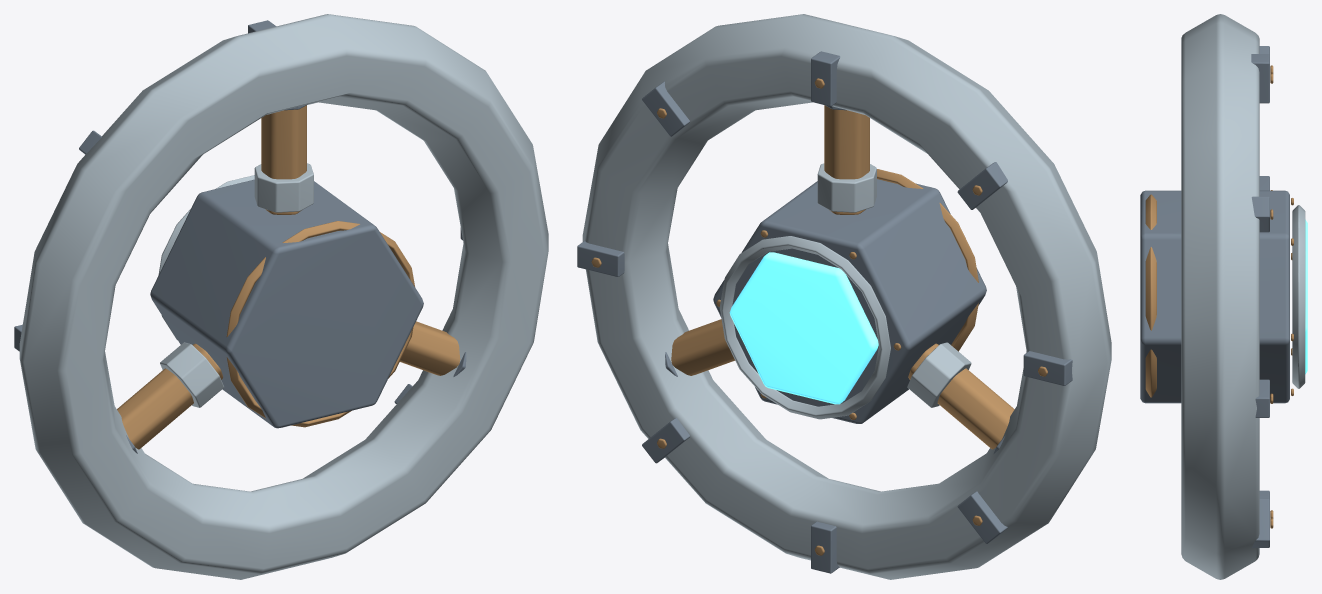
File: shield-buoy.glb
3 renders of one model, left to right at view 1: azimuth 30°, elevation 25°; view 2: azimuth 150°, elevation 25°; view 3: azimuth 270°, elevation 25°, orthographic. The views are drawn at different scales.
Parts seen in each view (by area): view 1: shield-buoy; view 2: shield-buoy; view 3: shield-buoy.
Boxes of the visible parts, x1,y1,x2,y2 form: shield-buoy: (14, 14, 548, 579); shield-buoy: (577, 14, 1111, 579); shield-buoy: (1140, 14, 1307, 579).
Bounding box in the file's own units: 2 × 1.97 × 0.5883.
